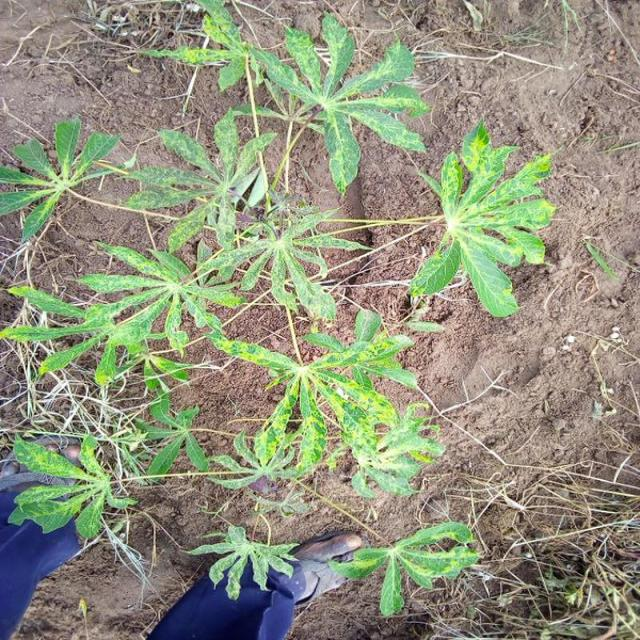cassava leaf: (406, 118, 556, 318), (326, 518, 480, 618)
